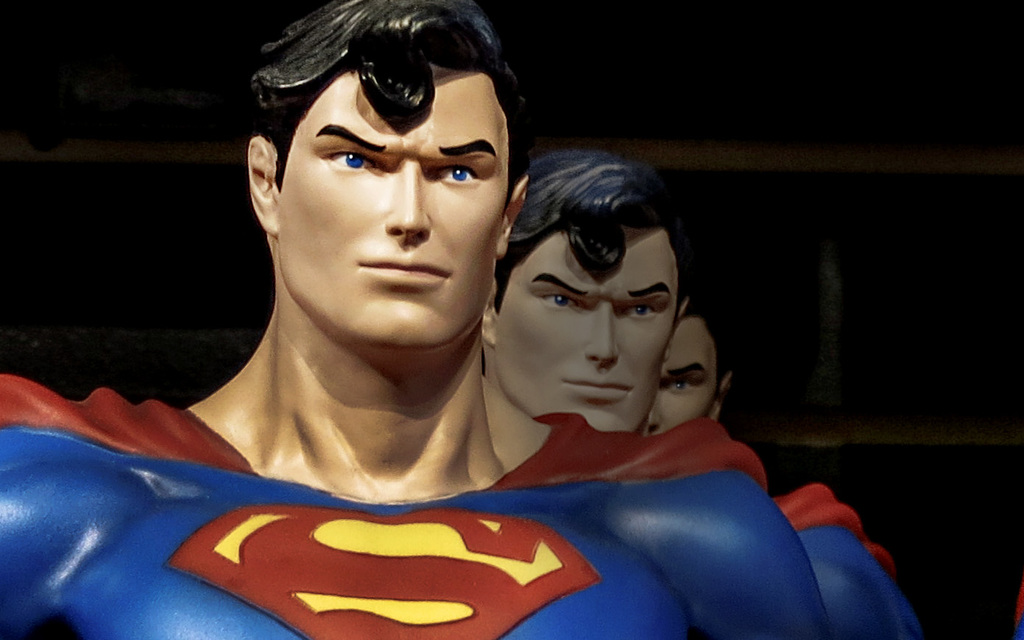face: (494, 213, 680, 437)
